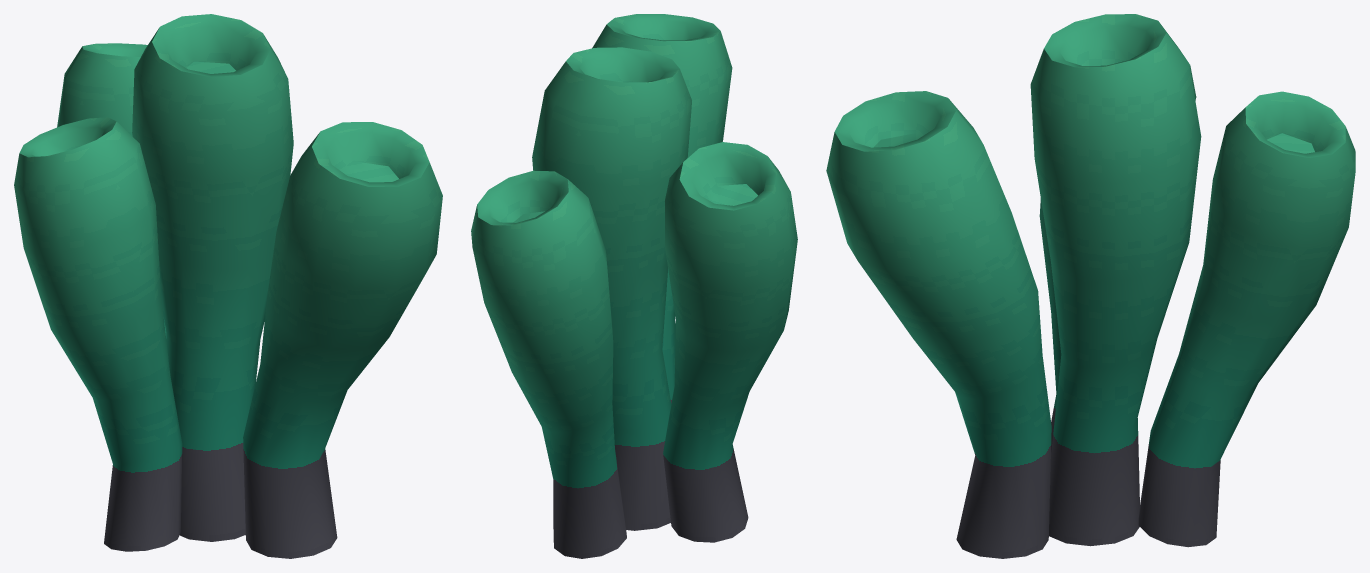
The model's file is D_CoralReef.086.glb.
3 views of the same model, side by side, from view 1: azimuth 30°, elevation 25°; view 2: azimuth 150°, elevation 25°; view 3: azimuth 270°, elevation 25° (orthographic). The views are drawn at different scales.
Parts seen in each view (by area): view 1: D_CoralReef.086; view 2: D_CoralReef.086; view 3: D_CoralReef.086.
Boxes of the visible parts, box(x1,y1,x2,y2) form: D_CoralReef.086: box(14, 14, 442, 558); D_CoralReef.086: box(471, 14, 797, 558); D_CoralReef.086: box(826, 14, 1355, 558).
Size of the model in its own units: 0.144 by 0.2148 by 0.2055.
1 material, 1 textured.
